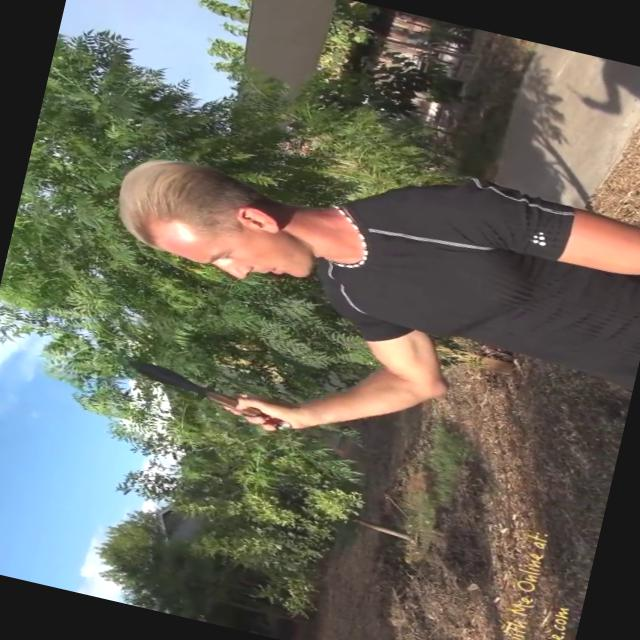knife: (104, 347, 304, 443)
